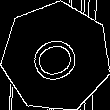O_E: (25, 28, 87, 86)
